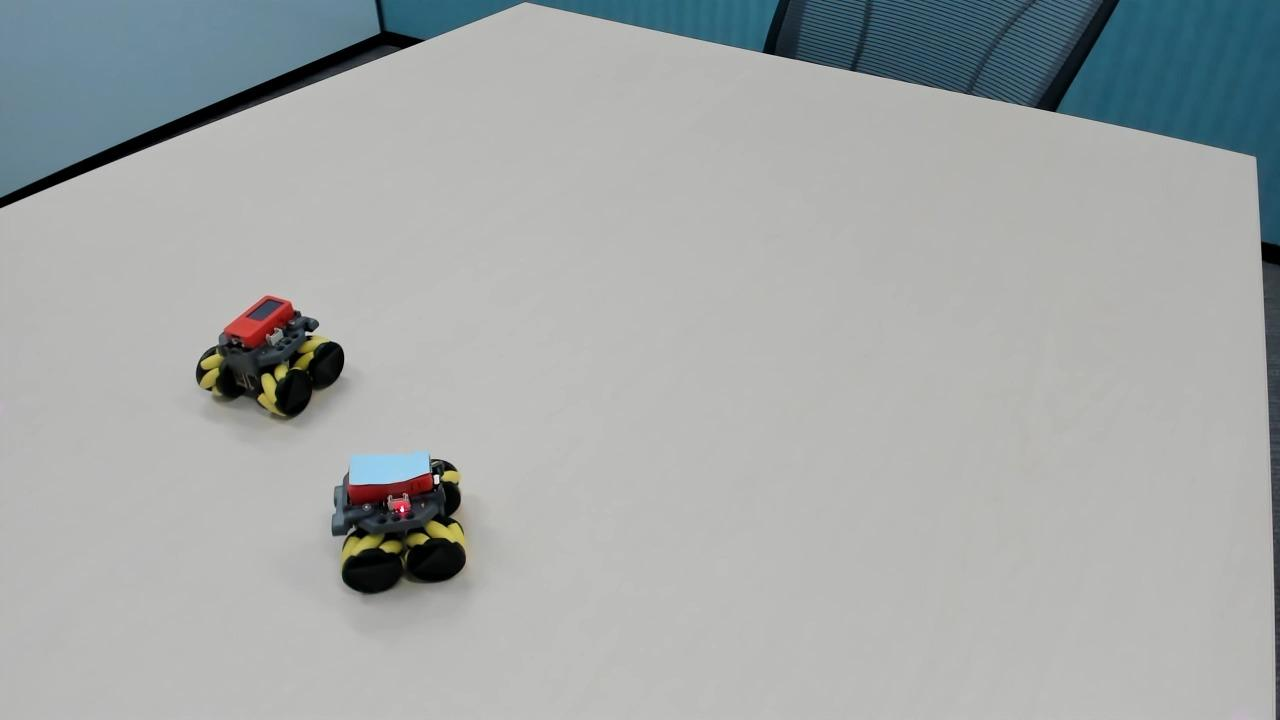B-Robot: (316, 444, 485, 605)
R-Robot: (194, 284, 354, 434)
